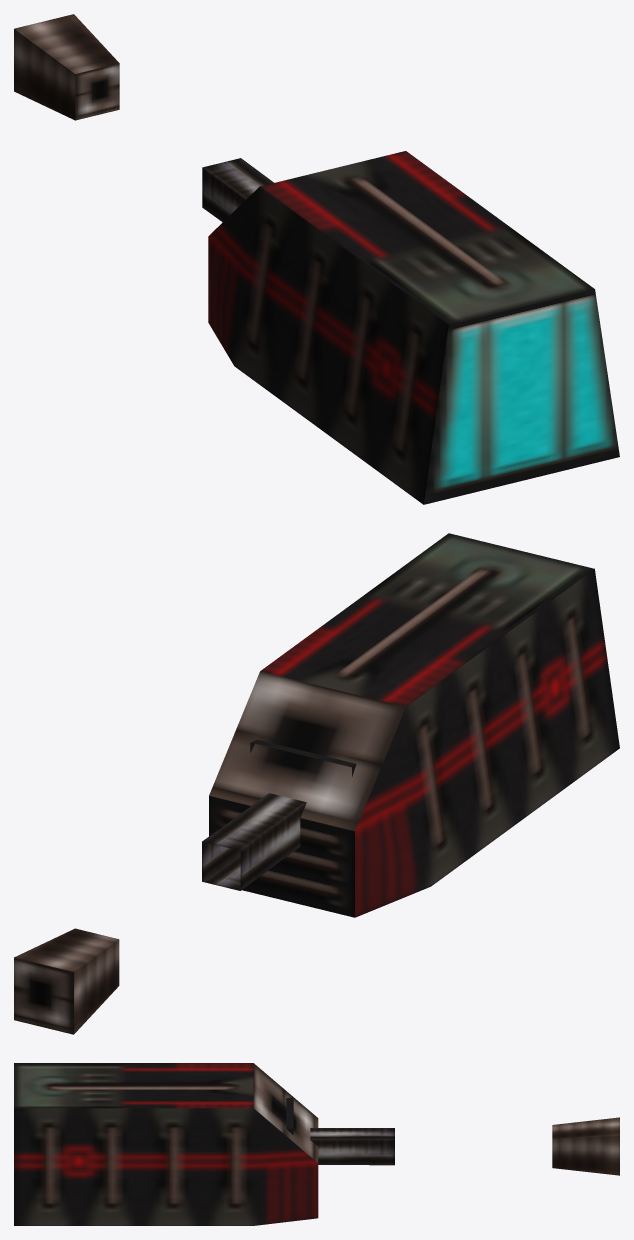
File: wep03.obj
3 renders of one model, top to bottom at view 1: azimuth 30°, elevation 25°; view 2: azimuth 150°, elevation 25°; view 3: azimuth 270°, elevation 25°, orthographic. The views are drawn at different scales.
Parts seen in each view (by area): view 1: frm-wepbas1, frm-wepbar3, frm-wepbar2; view 2: frm-wepbas1, frm-wepbar3, frm-wepbar2; view 3: frm-wepbas1, frm-wepbar3, frm-wepbar2, frm-wepbar1.
Boxes of the visible parts, x1,y1,x2,y2 form: frm-wepbas1: (208, 151, 619, 504); frm-wepbar3: (14, 14, 119, 120); frm-wepbar2: (202, 158, 273, 222); frm-wepbas1: (209, 533, 619, 917); frm-wepbar3: (14, 928, 119, 1034); frm-wepbar2: (202, 793, 306, 890); frm-wepbas1: (14, 1063, 318, 1225); frm-wepbar3: (552, 1117, 619, 1175); frm-wepbar2: (310, 1128, 394, 1165); frm-wepbar1: (286, 1097, 293, 1134).
Size of the model in its own units: 0.1557 by 0.1317 by 0.6575.
